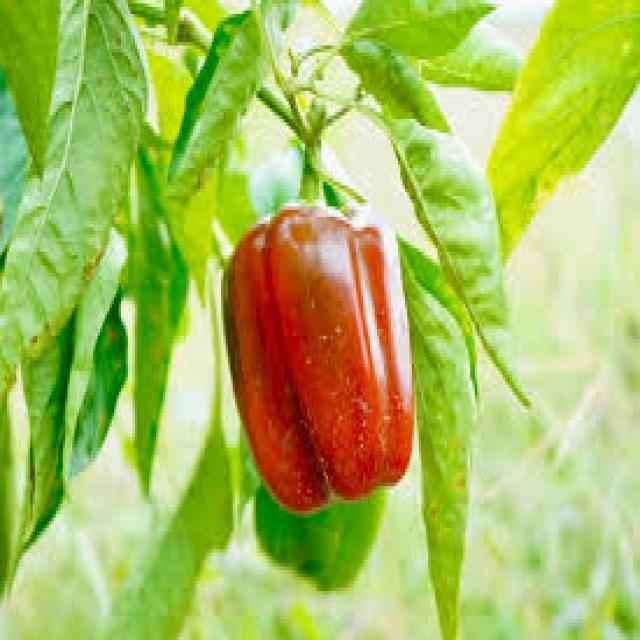Pepper: (220, 204, 417, 518)
